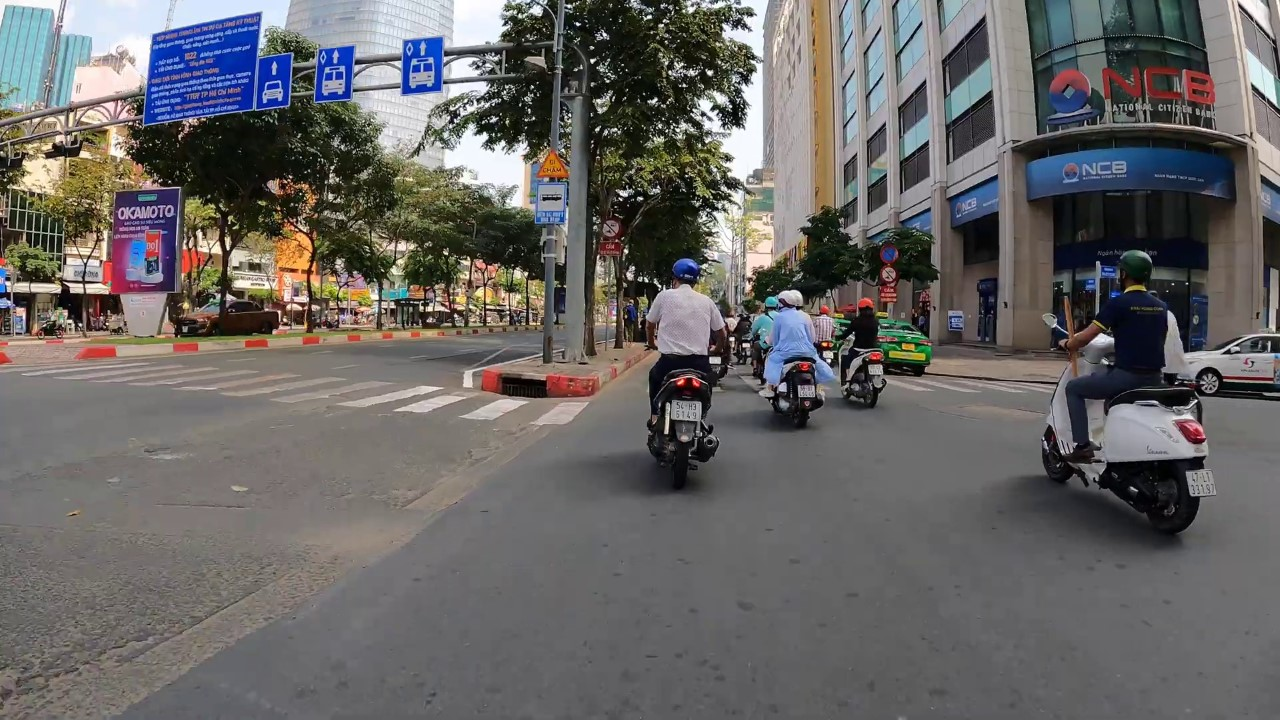cam_do_xe: (879, 244, 899, 264)
di_cham: (536, 148, 569, 179)
